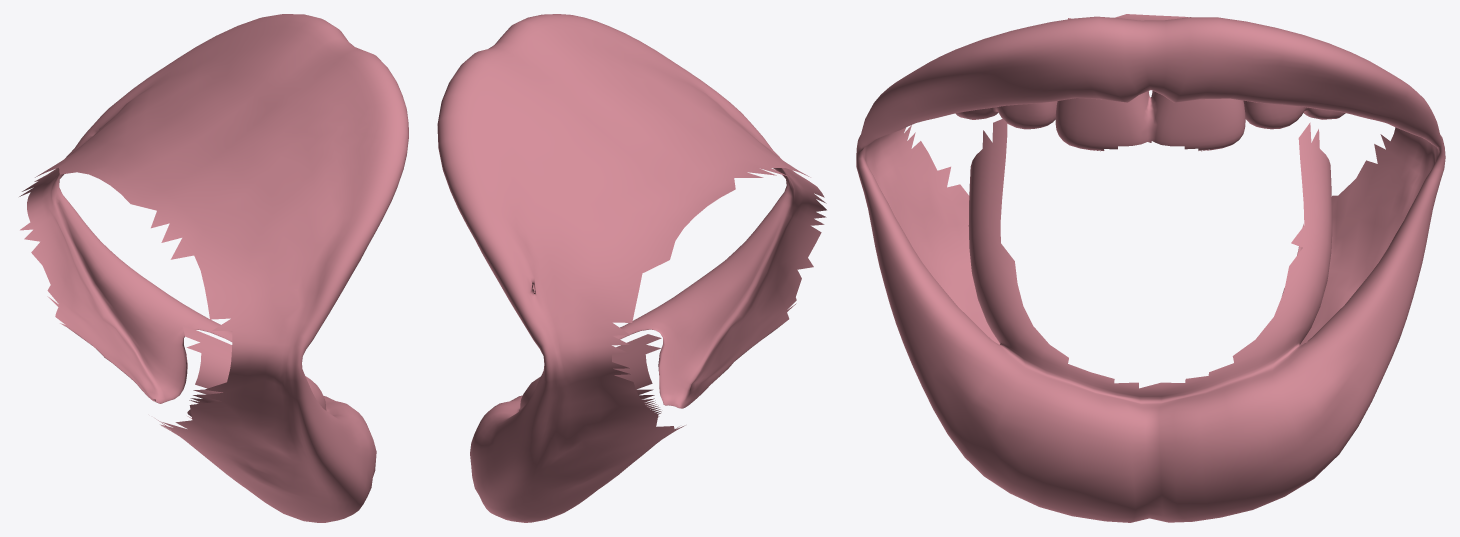
Rendered from realistic-open-mouth-lips-standard.glb.
3 renders of one model, left to right at view 1: azimuth 30°, elevation 25°; view 2: azimuth 150°, elevation 25°; view 3: azimuth 270°, elevation 25°, orthographic. The views are drawn at different scales.
Parts seen in each view (by area): view 1: lips-standard; view 2: lips-standard; view 3: lips-standard.
Part boxes in pixels (<box>): lips-standard: <box>19,14,408,522</box>; lips-standard: <box>437,14,826,522</box>; lips-standard: <box>856,14,1445,522</box>.
Bounding box in the file's own units: 0.5517 × 0.9483 × 0.9448.
